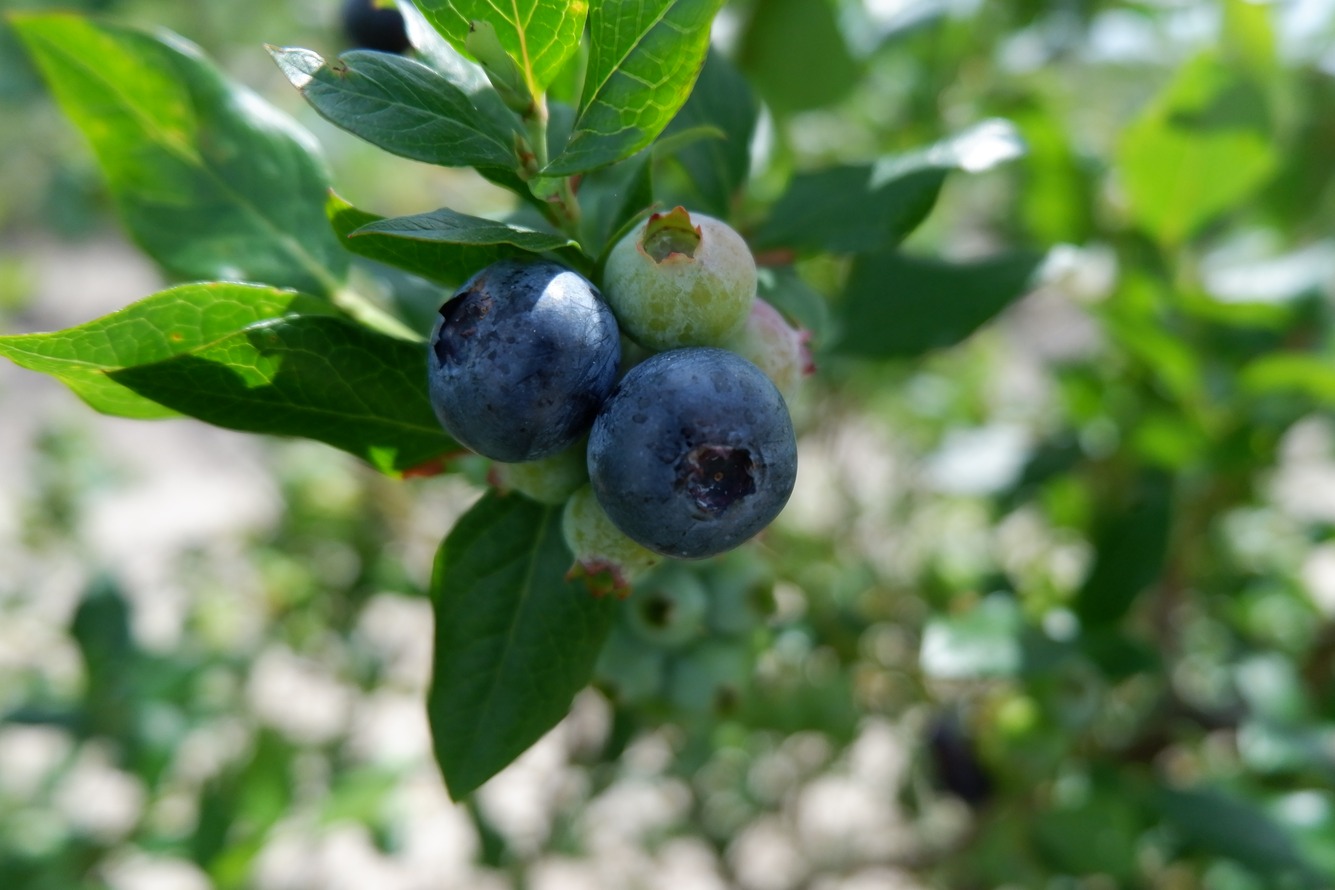Immature: (604, 209, 753, 347), (565, 485, 657, 594), (717, 300, 813, 390), (490, 444, 587, 503)
Mature: (591, 352, 791, 555), (430, 264, 616, 461)
